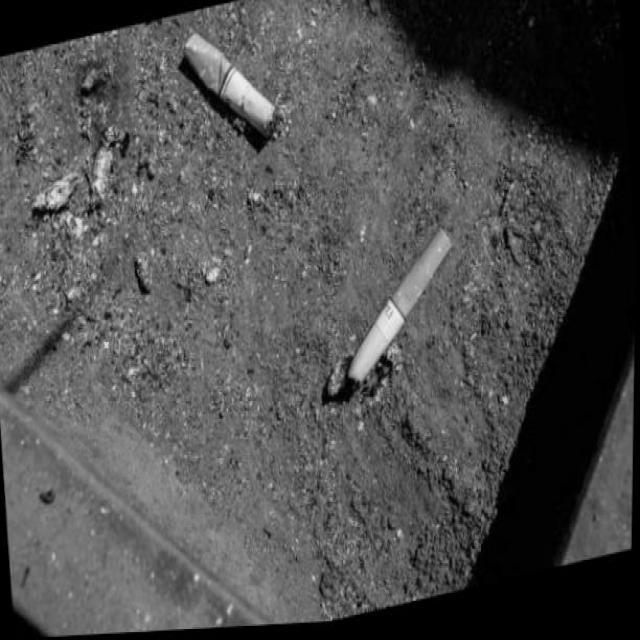cigarette: (335, 225, 466, 402), (178, 11, 284, 157)
